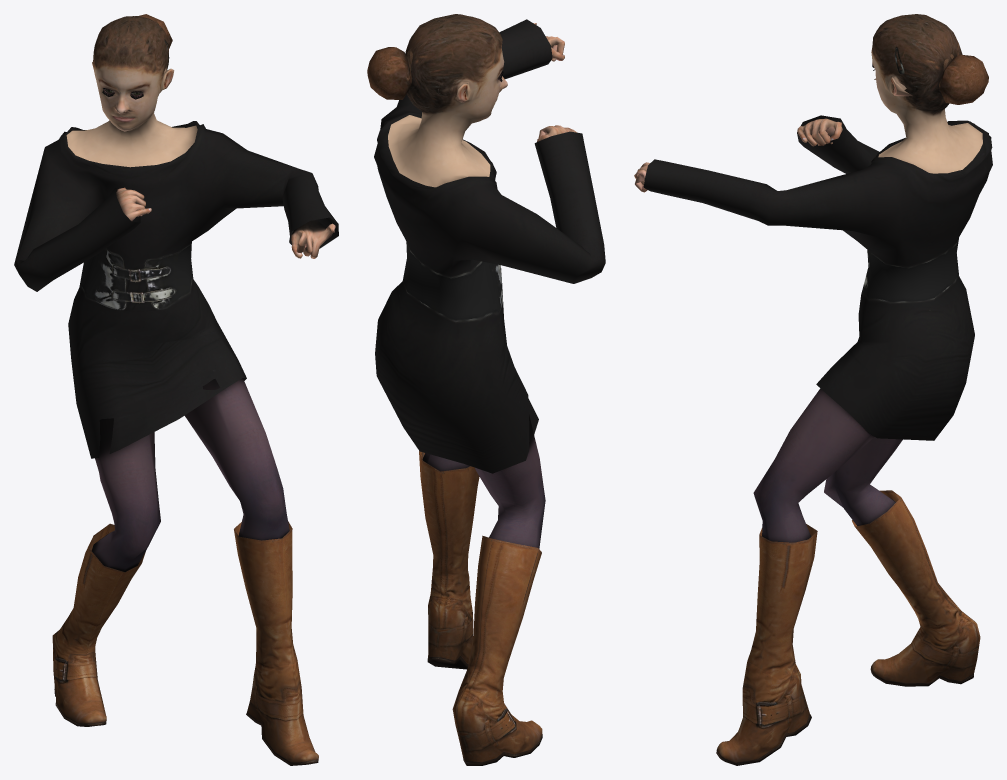
Rendered from Ana_Model_000040.obj.
3 views of the same model, side by side, from view 1: azimuth 30°, elevation 25°; view 2: azimuth 150°, elevation 25°; view 3: azimuth 270°, elevation 25° (orthographic). The views are drawn at different scales.
Parts seen in each view (by area): view 1: Ana_Cube.004; view 2: Ana_Cube.004; view 3: Ana_Cube.004.
Boxes of the visible parts, left/top/right/bottom form: Ana_Cube.004: left=14, top=14, right=338, bottom=765; Ana_Cube.004: left=367, top=14, right=605, bottom=765; Ana_Cube.004: left=634, top=14, right=992, bottom=765.
Bounding box in the file's own units: 0.6776 × 1.86 × 0.8655.
Materials: 1 (1 with a texture image).
